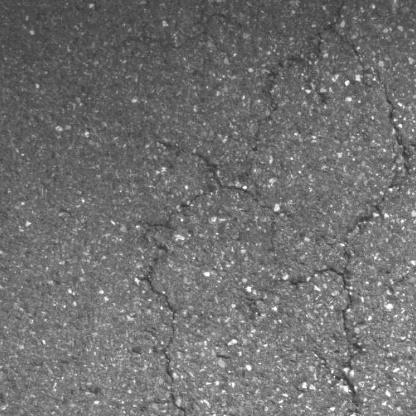Cracks: (131, 136, 286, 386), (306, 68, 416, 416), (314, 0, 367, 69), (166, 389, 204, 416)
